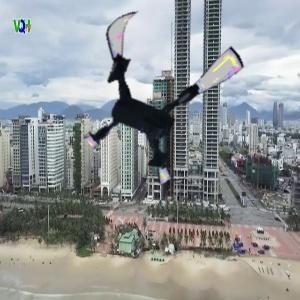drone: (74, 7, 248, 181)
